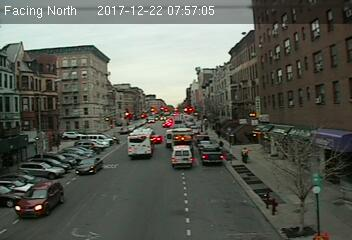bus: (128, 128, 155, 159)
car: (14, 179, 64, 221), (76, 158, 104, 175), (200, 145, 224, 163), (151, 133, 162, 144)
truck: (171, 145, 193, 169)
